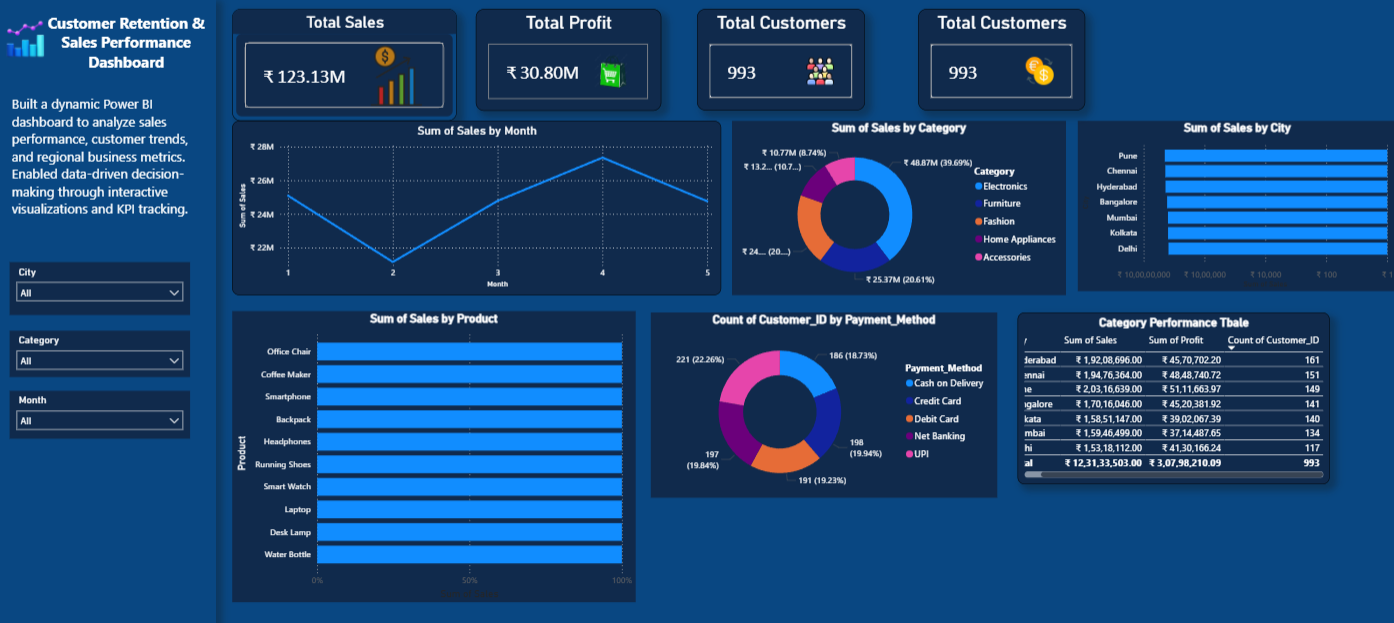

This screenshot's page, from the dashboard's own definition file:
{"tool":"powerbi","page":{"name":"Page 1","canvas":[2000,900],"ordinal":0},"visuals":[{"type":"cardVisual","title":"Total Sales","fields":{"Data":["Sum(cleaned_ecommerce_dataset.Sales)"]},"box":[335.1,15.8,321.1,159.6],"z":0},{"type":"cardVisual","title":"Total Profit","fields":{"Data":["Sum(cleaned_ecommerce_dataset.Profit)"]},"box":[684.2,15.8,264.9,145.6],"z":1000},{"type":"cardVisual","title":"Total Customers","fields":{"Data":["CountNonNull(cleaned_ecommerce_dataset.Customer_ID)"]},"box":[1000,15,240,145],"z":2000},{"type":"lineChart","fields":{"Category":["cleaned_ecommerce_dataset.Month"],"Y":["Sum(cleaned_ecommerce_dataset.Sales)"]},"box":[335.1,175.4,698.2,249.1],"z":3000},{"type":"clusteredBarChart","fields":{"Category":["cleaned_ecommerce_dataset.City"],"Y":["Sum(cleaned_ecommerce_dataset.Sales)"]},"box":[1543.9,175.4,456.1,243.9],"z":4000},{"type":"donutChart","fields":{"Category":["cleaned_ecommerce_dataset.Category"],"Y":["Sum(cleaned_ecommerce_dataset.Sales)"]},"box":[1050.9,175.4,477.2,249.1],"z":5000},{"type":"tableEx","title":"Category Performance Tbale","fields":{"Values":["cleaned_ecommerce_dataset.City","Sum(cleaned_ecommerce_dataset.Sales)","Sum(cleaned_ecommerce_dataset.Profit)","CountNonNull(cleaned_ecommerce_dataset.Customer_ID)"]},"box":[1457.9,450.9,445.6,245.6],"z":6000},{"type":"textbox","box":[58.3,15,253.3,103.3],"z":7000},{"type":"shape","box":[0,0,312.3,900],"z":8000},{"type":"cardVisual","title":"Total Customers","fields":{"Data":["Count(cleaned_ecommerce_dataset.Order_ID)"]},"box":[1315,15,238.3,145],"z":9000},{"type":"slicer","fields":{"Values":["cleaned_ecommerce_dataset.City"]},"box":[17.5,378.1,257.9,75.4],"z":10000},{"type":"slicer","fields":{"Values":["cleaned_ecommerce_dataset.Category"]},"box":[17.5,476.4,257.9,66.7],"z":11000},{"type":"slicer","fields":{"Values":["cleaned_ecommerce_dataset.Month"]},"box":[17.5,562.3,257.9,68.4],"z":12000},{"type":"hundredPercentStackedBarChart","fields":{"Category":["cleaned_ecommerce_dataset.Product"],"Y":["Sum(cleaned_ecommerce_dataset.Sales)"]},"box":[335,448.3,576.7,416.7],"z":13000},{"type":"donutChart","fields":{"Y":["CountNonNull(cleaned_ecommerce_dataset.Customer_ID)"],"Series":["cleaned_ecommerce_dataset.Payment_Method"]},"box":[933.3,450.9,494.7,264.9],"z":14000},{"type":"image","box":[0,28.3,80,65],"z":16000},{"type":"textbox","box":[15.8,133.3,294.7,191.2],"z":17000}]}

Visuals, with their boxes in screenshot pixels (x1, y1, x2, y2), scaled from the page's 2000x900 canvas onto the 1394x623 screenshot:
"Total Sales" cardVisual: 234, 11, 457, 121
"Total Profit" cardVisual: 477, 11, 662, 112
"Total Customers" cardVisual: 697, 10, 864, 111
lineChart - cleaned_ecommerce_dataset.Month x Sum(cleaned_ecommerce_dataset.Sales): 234, 121, 720, 294
clusteredBarChart - cleaned_ecommerce_dataset.City x Sum(cleaned_ecommerce_dataset.Sales): 1076, 121, 1393, 290
donutChart - cleaned_ecommerce_dataset.Category x Sum(cleaned_ecommerce_dataset.Sales): 732, 121, 1065, 294
"Category Performance Tbale" tableEx: 1016, 312, 1327, 482
textbox: 41, 10, 217, 82
shape: 0, 0, 218, 622
"Total Customers" cardVisual: 917, 10, 1083, 111
slicer - cleaned_ecommerce_dataset.City: 12, 262, 192, 314
slicer - cleaned_ecommerce_dataset.Category: 12, 330, 192, 376
slicer - cleaned_ecommerce_dataset.Month: 12, 389, 192, 437
hundredPercentStackedBarChart - cleaned_ecommerce_dataset.Product x Sum(cleaned_ecommerce_dataset.Sales): 233, 310, 635, 599
donutChart - CountNonNull(cleaned_ecommerce_dataset.Customer_ID) x cleaned_ecommerce_dataset.Payment_Method: 651, 312, 995, 495
image: 0, 20, 56, 65
textbox: 11, 92, 216, 225
